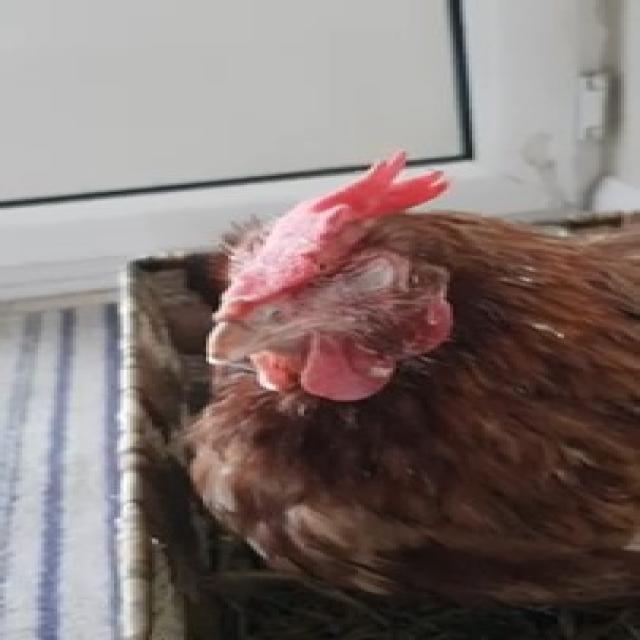Breathing: (174, 147, 637, 614)
